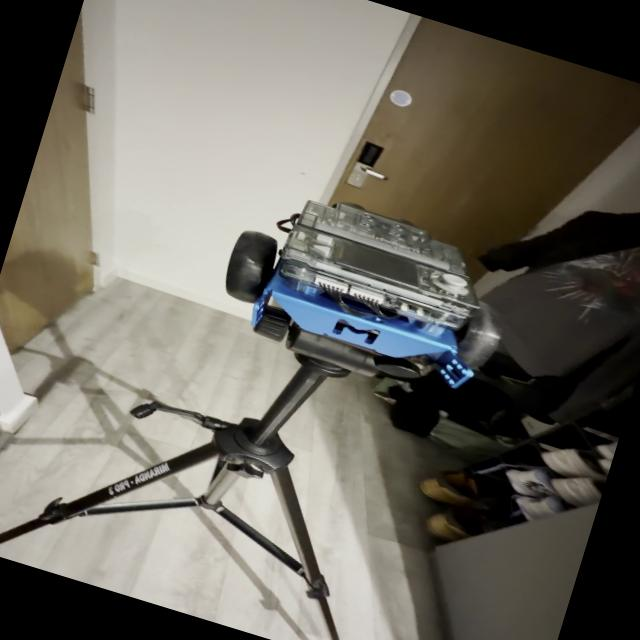mbot-detection: (200, 162, 534, 400)
